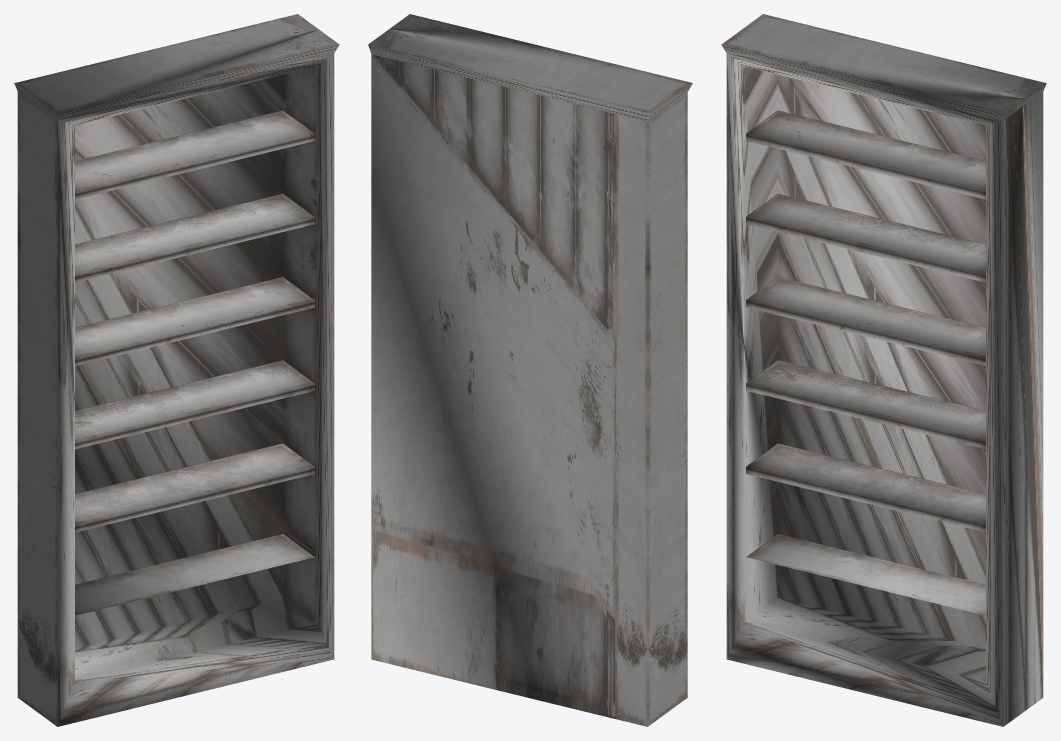
Rendered from Shelf_01.glb.
The picture shows the model from 3 angles, left to right: view 1: azimuth 30°, elevation 25°; view 2: azimuth 150°, elevation 25°; view 3: azimuth 330°, elevation 25°; orthographic projection.
Parts seen in each view (by area): view 1: Shelf_01; view 2: Shelf_01; view 3: Shelf_01.
Part boxes in pixels (bbox=[...]): Shelf_01: bbox=[14, 14, 339, 726]; Shelf_01: bbox=[368, 14, 692, 726]; Shelf_01: bbox=[721, 14, 1046, 726].
Bounding box in the file's own units: 1 × 2.08 × 0.257.
Materials: 1 (1 with a texture image).
